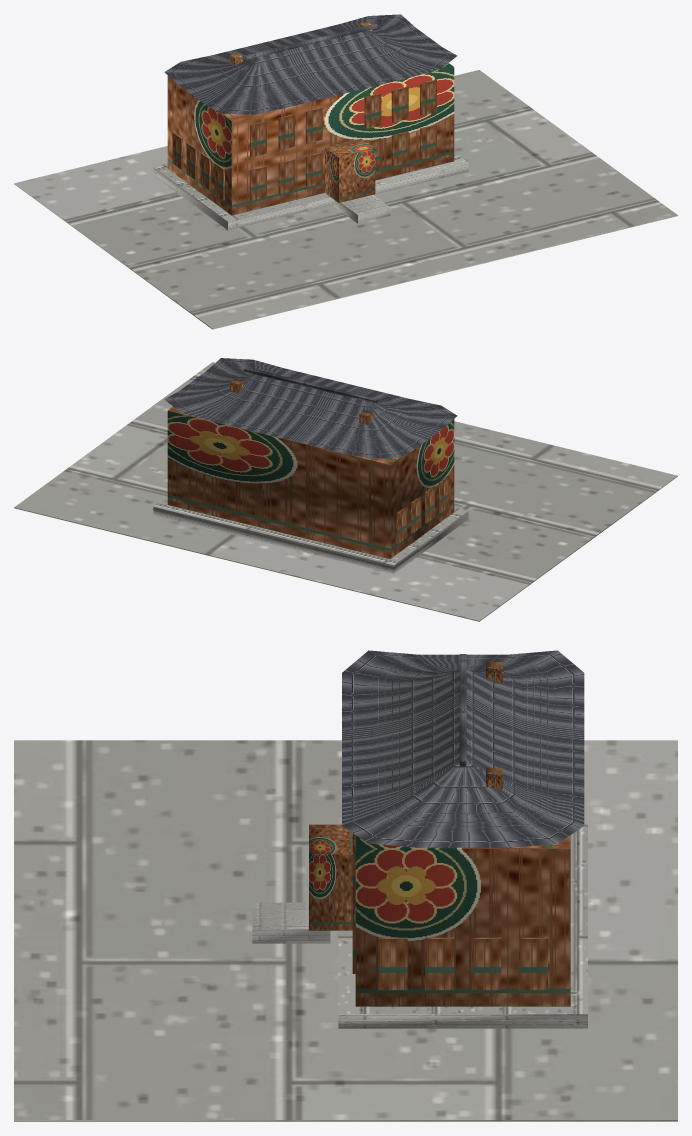
3 views of the same model, one above another, from view 1: azimuth 30°, elevation 25°; view 2: azimuth 150°, elevation 25°; view 3: azimuth 270°, elevation 25° (orthographic). The views are drawn at different scales.
Visible parts, largest first — view 1: 11140_02_04519_007_01_L2__plinth, 11140_02_04519_007_02_L2__body, 11140_02_04519_007_03_L2__roof, 11140_02_04519_007_05_L2__windows; view 2: 11140_02_04519_007_01_L2__plinth, 11140_02_04519_007_02_L2__body, 11140_02_04519_007_03_L2__roof, 11140_02_04519_007_05_L2__windows; view 3: 11140_02_04519_007_01_L2__plinth, 11140_02_04519_007_03_L2__roof, 11140_02_04519_007_02_L2__body, 11140_02_04519_007_05_L2__windows.
Part boxes in pixels (left/top/right/bottom): 11140_02_04519_007_01_L2__plinth: left=14, top=70, right=677, bottom=329; 11140_02_04519_007_02_L2__body: left=167, top=21, right=454, bottom=215; 11140_02_04519_007_03_L2__roof: left=164, top=14, right=457, bottom=114; 11140_02_04519_007_05_L2__windows: left=172, top=79, right=436, bottom=200; 11140_02_04519_007_01_L2__plinth: left=14, top=362, right=677, bottom=621; 11140_02_04519_007_02_L2__body: left=167, top=378, right=454, bottom=558; 11140_02_04519_007_03_L2__roof: left=164, top=358, right=457, bottom=458; 11140_02_04519_007_05_L2__windows: left=397, top=476, right=449, bottom=543; 11140_02_04519_007_01_L2__plinth: left=14, top=740, right=677, bottom=1121; 11140_02_04519_007_03_L2__roof: left=342, top=650, right=584, bottom=847; 11140_02_04519_007_02_L2__body: left=309, top=662, right=570, bottom=1006; 11140_02_04519_007_05_L2__windows: left=352, top=833, right=547, bottom=990.
Size of the model in its own units: 46 by 12.66 by 34.
Materials: 5 (5 with a texture image).
